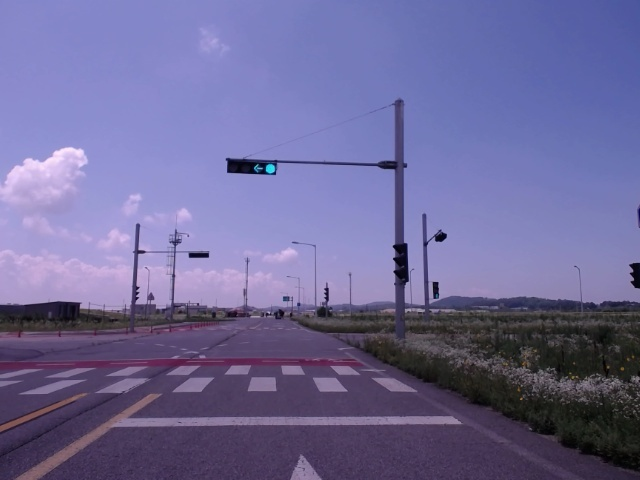all_green_4: (227, 156, 278, 174)
